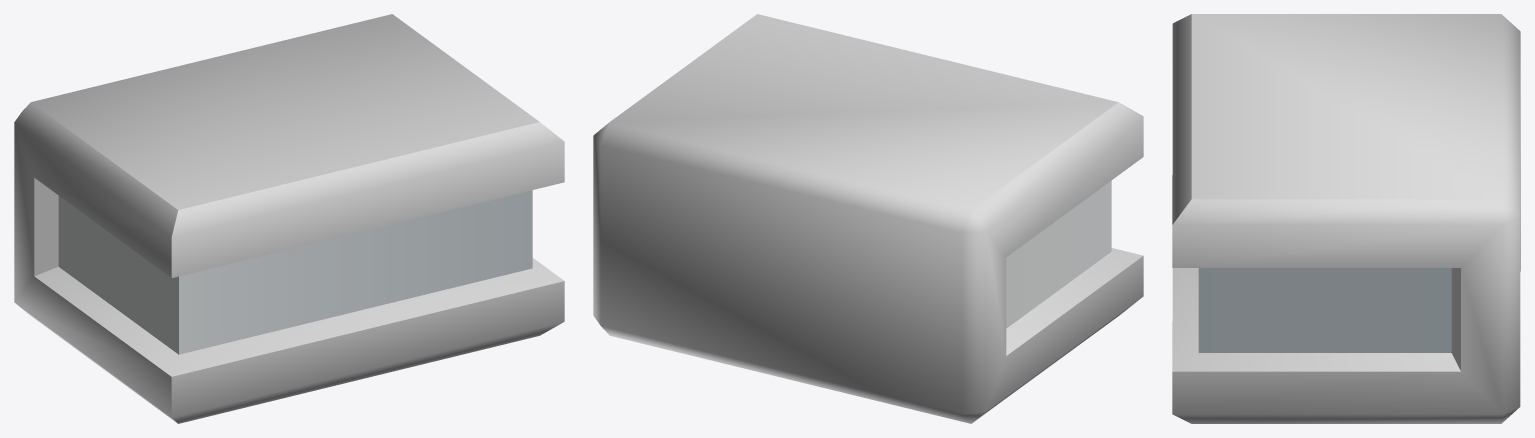
The model's file is book.glb.
3 renders of one model, left to right at view 1: azimuth 30°, elevation 25°; view 2: azimuth 150°, elevation 25°; view 3: azimuth 270°, elevation 25°, orthographic. The views are drawn at different scales.
Parts seen in each view (by area): view 1: book_colourA, book; view 2: book_colourA, book; view 3: book_colourA, book.
Part boxes in pixels (x1,y1,x2,y2): book_colourA: (14, 14, 564, 423); book: (58, 190, 532, 354); book_colourA: (593, 14, 1143, 423); book: (1006, 180, 1111, 328); book_colourA: (1172, 14, 1520, 423); book: (1198, 268, 1451, 352).
Size of the model in its own units: 0.5 by 0.26 by 0.3651.
Materials: 2 (1 with a texture image).
